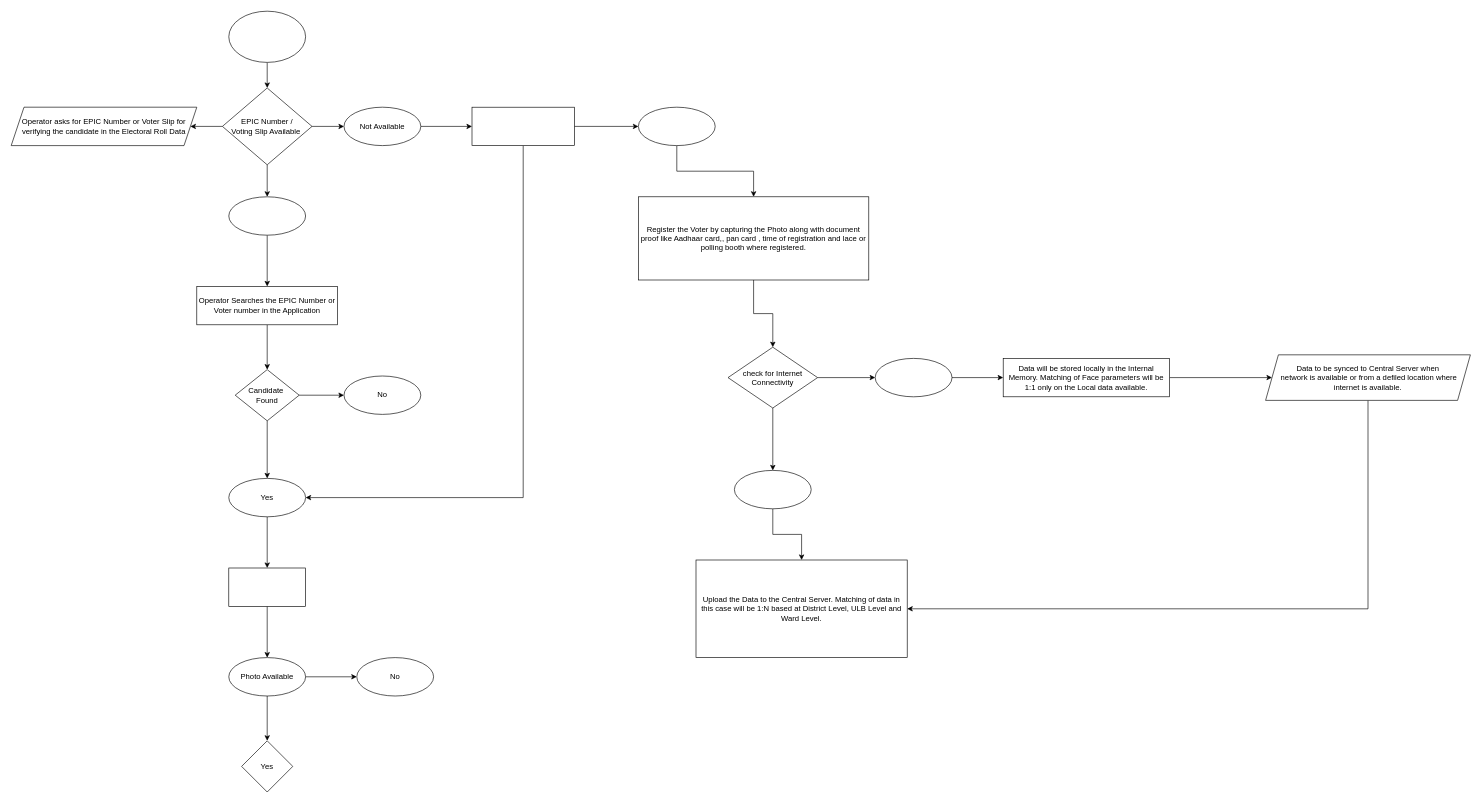
This 1482x803 diagram has some shape labels left out. Each missing label, with the centre of its shape:
Available: (x=267, y=215)
Internet Available: (x=772, y=489)
Internet Not Available: (x=913, y=377)
Operator Initiates the Authentication Process using the Mobile Application: (x=267, y=586)
Search the candidate in the Electoral Data based on name, age, photo etc.: (x=522, y=126)
Voter Not Found: (x=676, y=126)
Voter Visits the Polling Booth for casting Vote: (x=267, y=36)
